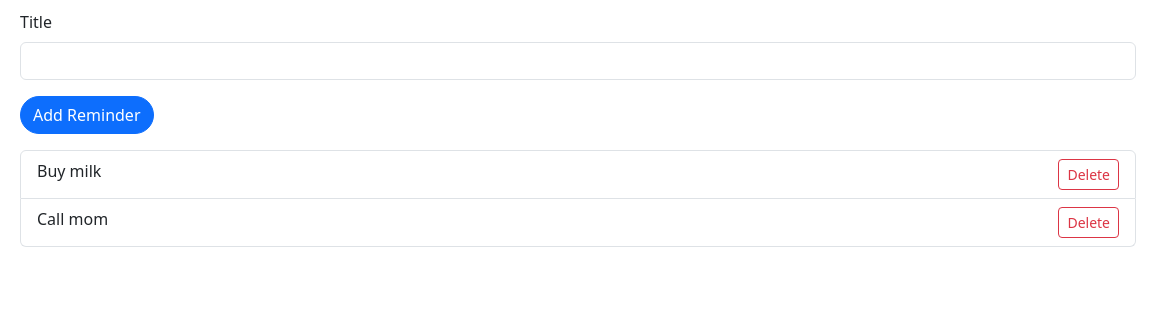
Test: Reminders app › adds a reminder through the form
This screenshot has width=1157, height=312.
Expected: the list item "Buy milk" is shown, [37,160,101,182]
In the field labelled "Title": (578, 61) [20,42,1136,80], type "Walk the dog"
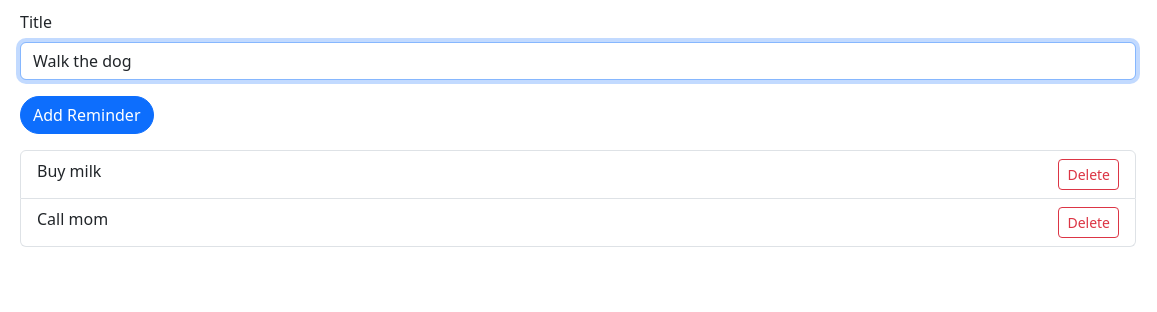
Click the button "Add Reminder": (87, 115) [20,96,154,134]
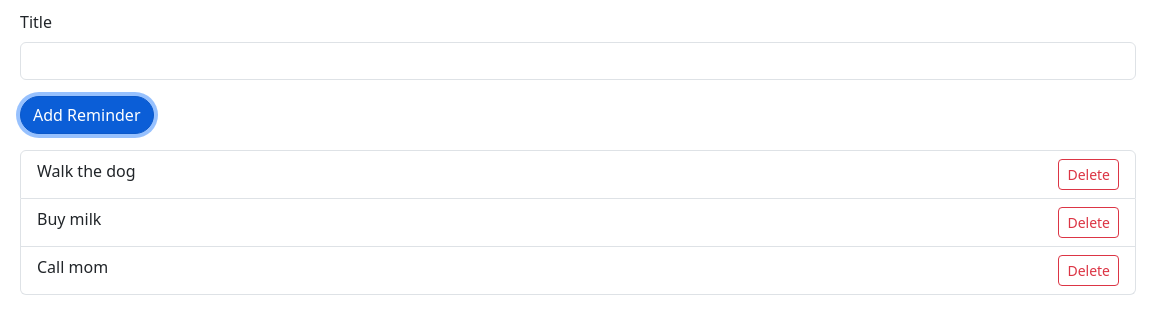
Result: the list item "Walk the dog" is shown at [37,160,136,182]
Result: the field labelled "Title" is empty at [20,42,1136,80]
